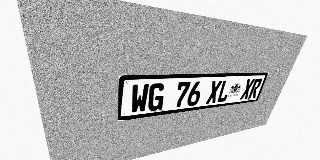6: (186, 81, 204, 107)
7: (173, 82, 191, 108)
G: (147, 83, 166, 112)
L: (216, 80, 233, 103)
R: (248, 78, 263, 99)
W: (130, 84, 149, 114)
X: (206, 80, 222, 104), (240, 79, 255, 100)
